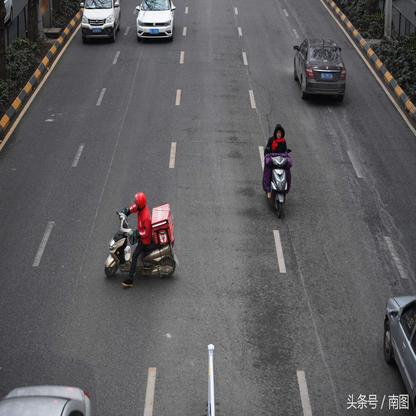target: (260, 122, 296, 219)
